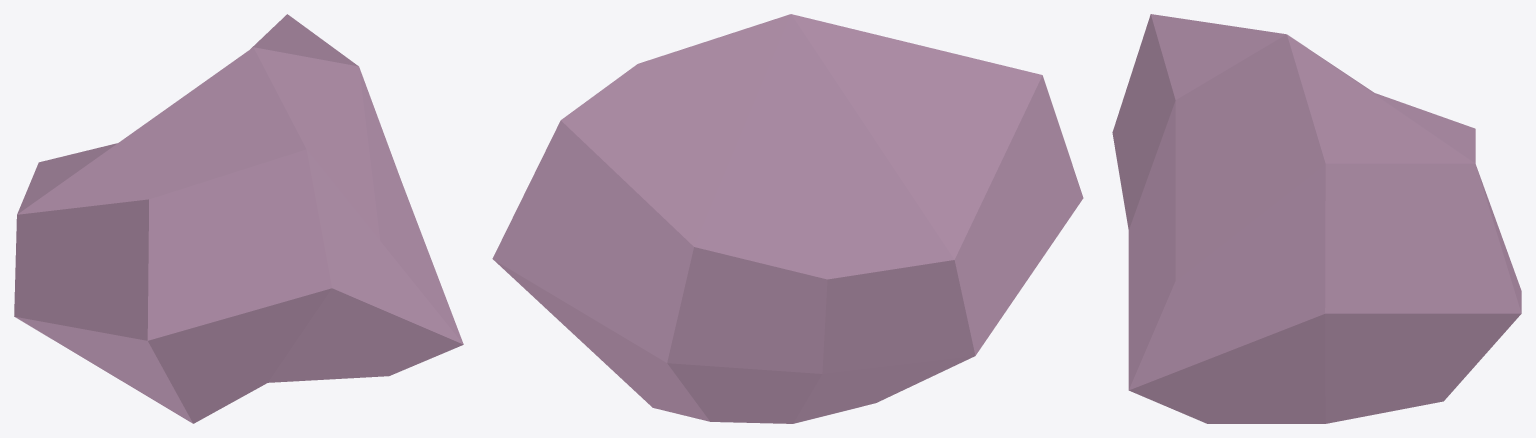
Rendered from stone2.glb.
The picture shows the model from 3 angles, left to right: view 1: azimuth 30°, elevation 25°; view 2: azimuth 150°, elevation 25°; view 3: azimuth 270°, elevation 25°; orthographic projection. The views are drawn at different scales.
Parts seen in each view (by area): view 1: stone2; view 2: stone2; view 3: stone2.
Boxes of the visible parts, bbox=[...] form: stone2: bbox=[14, 14, 463, 423]; stone2: bbox=[492, 14, 1083, 423]; stone2: bbox=[1112, 14, 1521, 423].
Bounding box in the file's own units: 3.03 × 2.53 × 2.76.
